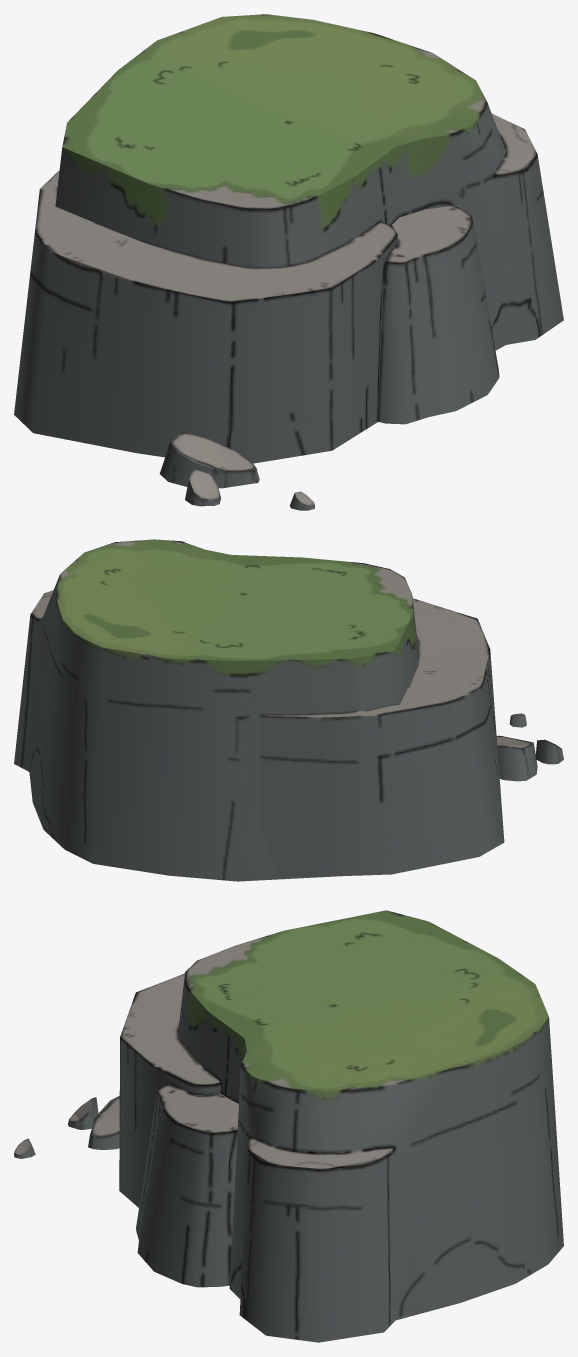
The model's file is shan_003.fbx.
3 views of the same model, one above another, from view 1: azimuth 30°, elevation 25°; view 2: azimuth 150°, elevation 25°; view 3: azimuth 270°, elevation 25° (orthographic). The views are drawn at different scales.
Parts seen in each view (by area): view 1: shan_003; view 2: shan_003; view 3: shan_003.
Boxes of the visible parts, x1=… form: shan_003: x1=14, y1=14, x2=563, y2=510; shan_003: x1=14, y1=539, x2=563, y2=881; shan_003: x1=14, y1=910, x2=563, y2=1342.
Size of the model in its own units: 1123 by 492 by 1063.
Materials: 1 (1 with a texture image).
